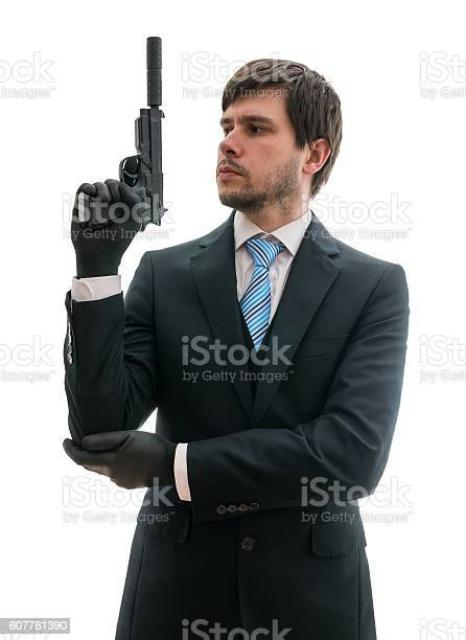handgun: (68, 101, 172, 241)
